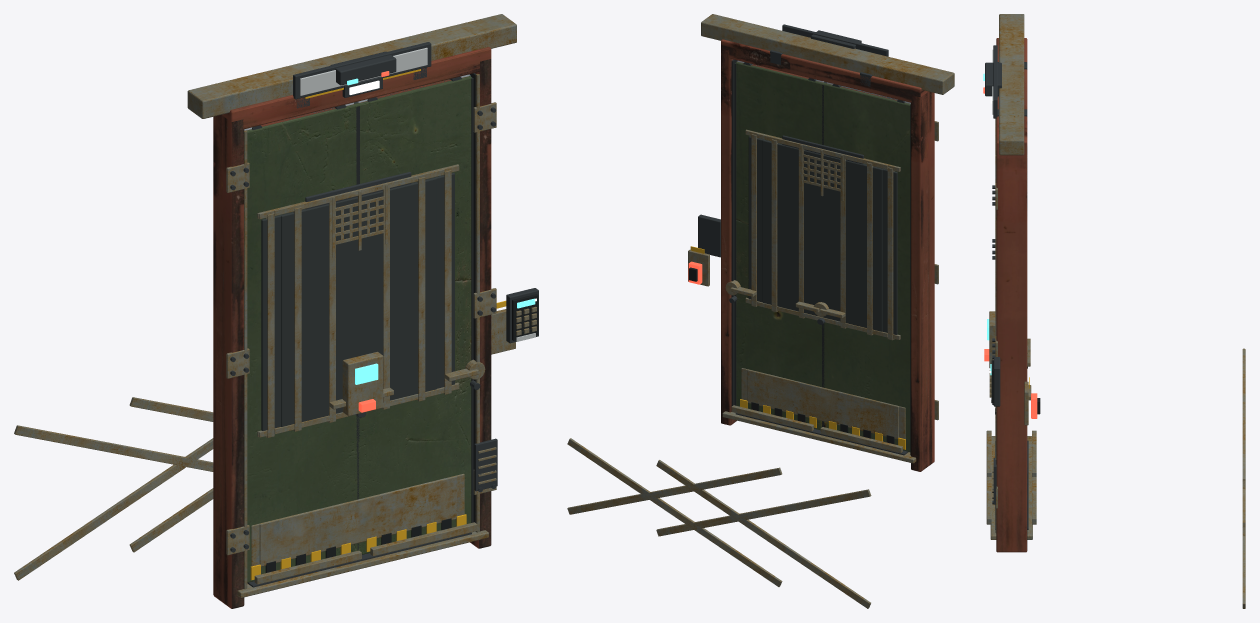
The model's file is level1_doors.glb.
The picture shows the model from 3 angles, left to right: view 1: azimuth 30°, elevation 25°; view 2: azimuth 150°, elevation 25°; view 3: azimuth 270°, elevation 25°; orthographic projection. The views are drawn at different scales.
Parts seen in each view (by area): view 1: SEGURIDAD_LeafA_Green, SEGURIDAD_LeafA_Inset, ALMACEN_Frame_Rust, ALMACEN_Frame_Steel, SEGURIDAD_LeafA_Steel, ALMACEN_LeafA_Steel, ALMACEN_LeafB_Steel, ALMACEN_LeafA_Inset, ALMACEN_LeafB_Inset, ALMACEN_Frame_DarkSteel, CONTROL_Frame_Steel, MANTENIMIENTO_Frame_DarkSteel (+10 smaller); view 2: SEGURIDAD_LeafA_Green, ALMACEN_Frame_Rust, SEGURIDAD_LeafA_Inset, SEGURIDAD_LeafA_Steel, ALMACEN_Frame_Steel, ALMACEN_LeafA_Steel, ALMACEN_LeafB_Steel, ALMACEN_LeafA_Inset, ALMACEN_Frame_Rubber, ALMACEN_LeafB_Inset, ALMACEN_Frame_DarkSteel, SEGURIDAD_LeafA_Rubber (+3 smaller); view 3: ALMACEN_Frame_Rust, ALMACEN_Frame_Steel, ALMACEN_LeafB_Steel, ALMACEN_Frame_DarkSteel, ALMACEN_LeafA_Steel, MANTENIMIENTO_Frame_DarkSteel, RECEPCION_LeafB_Steel, RECEPCION_LeafA_Steel, RECEPCION_Sensor_DarkSteel, SEGURIDAD_Keypad_DarkSteel.
Boxes of the visible parts, x1,y1,x2,y2 form: SEGURIDAD_LeafA_Green: (247, 76, 471, 582); SEGURIDAD_LeafA_Inset: (281, 177, 436, 426); ALMACEN_Frame_Rust: (213, 47, 491, 608); ALMACEN_Frame_Steel: (187, 14, 516, 597); SEGURIDAD_LeafA_Steel: (259, 169, 485, 566); ALMACEN_LeafA_Steel: (14, 193, 359, 584); ALMACEN_LeafB_Steel: (129, 164, 464, 554); ALMACEN_LeafA_Inset: (261, 209, 305, 430); ALMACEN_LeafB_Inset: (411, 172, 454, 388); ALMACEN_Frame_DarkSteel: (230, 42, 496, 587); CONTROL_Frame_Steel: (342, 351, 383, 416); MANTENIMIENTO_Frame_DarkSteel: (230, 43, 497, 586); SEGURIDAD_LeafA_Green: (736, 62, 910, 452); ALMACEN_Frame_Rust: (721, 39, 934, 471); SEGURIDAD_LeafA_Inset: (762, 140, 882, 331); SEGURIDAD_LeafA_Steel: (725, 133, 898, 439); ALMACEN_Frame_Steel: (701, 14, 954, 463); ALMACEN_LeafA_Steel: (656, 152, 905, 608); ALMACEN_LeafB_Steel: (567, 130, 823, 586); ALMACEN_LeafA_Inset: (864, 164, 897, 334); ALMACEN_Frame_Rubber: (731, 59, 910, 455); ALMACEN_LeafB_Inset: (748, 136, 781, 302); ALMACEN_Frame_DarkSteel: (735, 24, 908, 455); SEGURIDAD_LeafA_Rubber: (734, 63, 736, 405); ALMACEN_Frame_Rust: (996, 38, 1027, 552); ALMACEN_Frame_Steel: (990, 14, 1032, 539); ALMACEN_LeafB_Steel: (986, 345, 1245, 608); ALMACEN_Frame_DarkSteel: (992, 45, 1028, 503); ALMACEN_LeafA_Steel: (986, 338, 1245, 488); MANTENIMIENTO_Frame_DarkSteel: (992, 45, 1028, 529); RECEPCION_LeafB_Steel: (986, 477, 1036, 524); RECEPCION_LeafA_Steel: (986, 430, 1036, 476); RECEPCION_Sensor_DarkSteel: (985, 62, 1001, 96); SEGURIDAD_Keypad_DarkSteel: (993, 357, 1000, 406).
Size of the model in its own units: 2.66 by 3.77 by 1.86.
16 materials, 3 textured.
